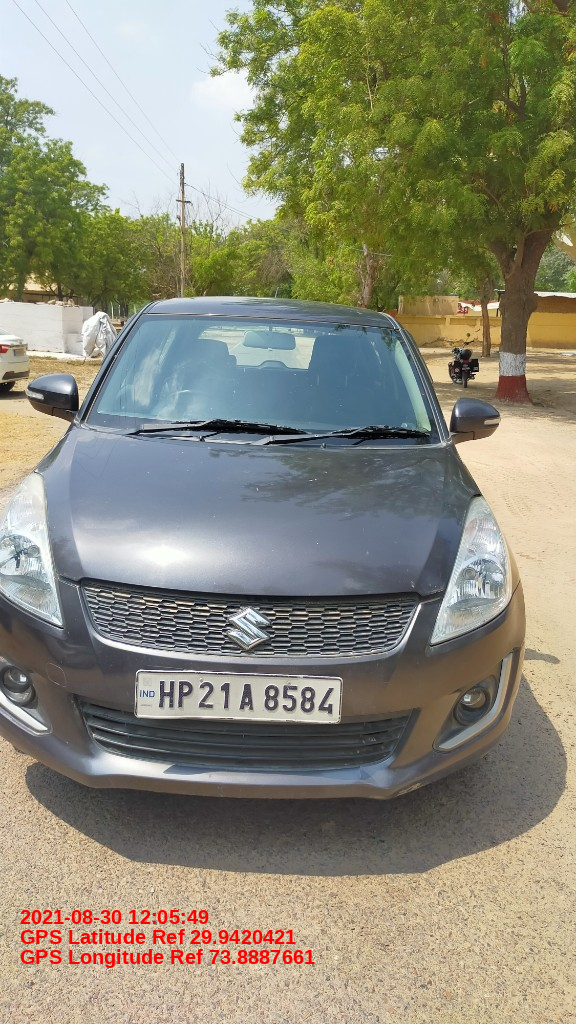Scratched: (396, 778, 428, 798), (351, 765, 374, 781)
